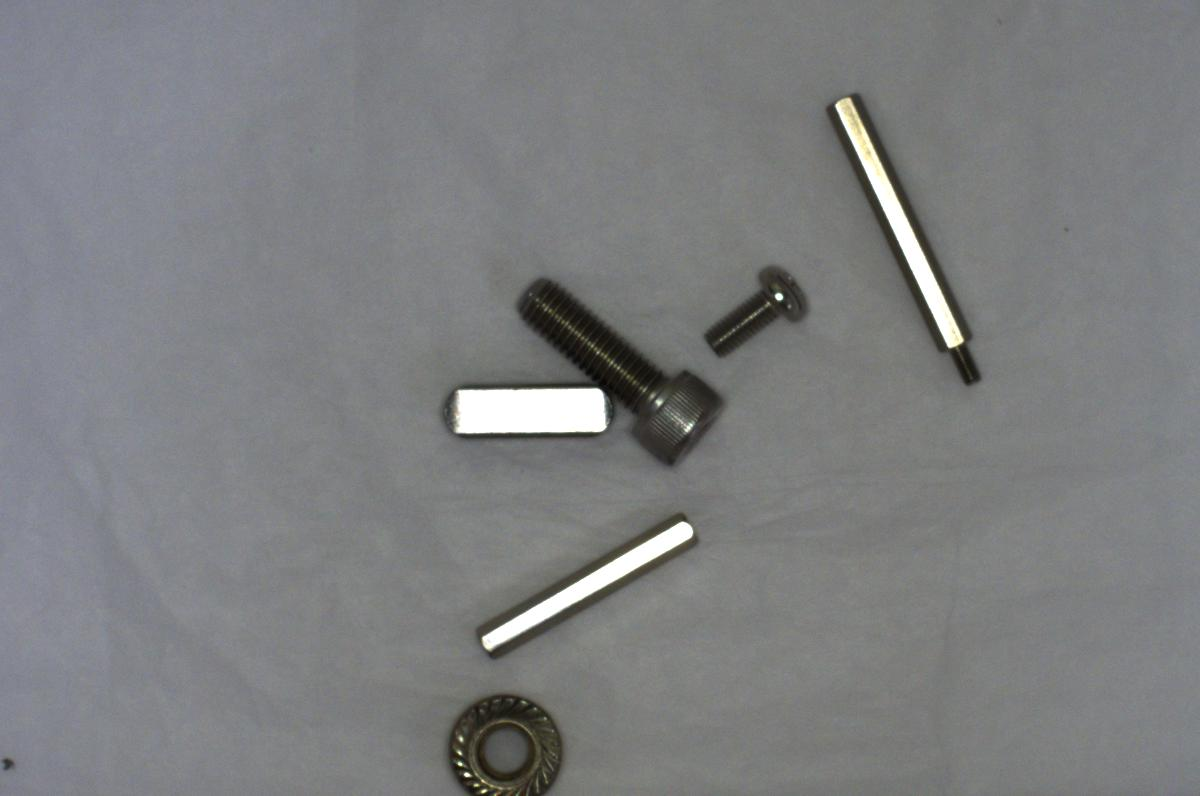Double hexagonal column: (470, 506, 702, 662)
Flange nut: (443, 681, 571, 795)
Hexagon screw: (505, 269, 730, 468)
Hexagonal steel column: (825, 92, 983, 391)
Keybar: (428, 376, 616, 446)
Round head screw: (698, 263, 808, 358)
